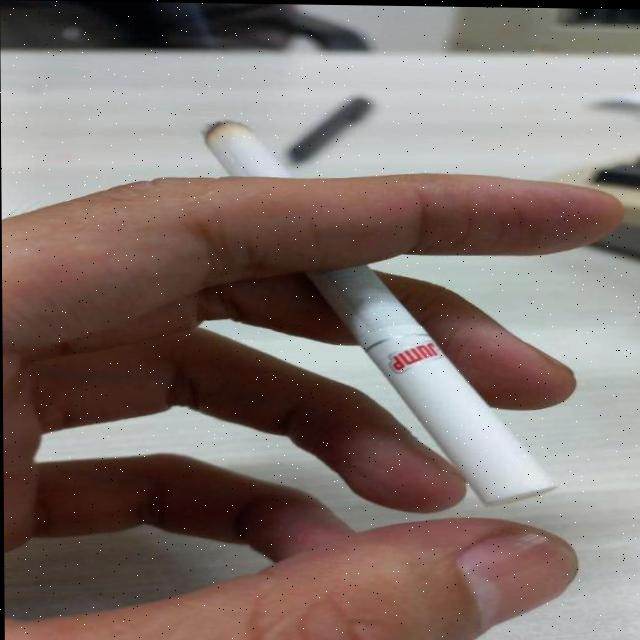cigarette: (202, 120, 554, 504)
